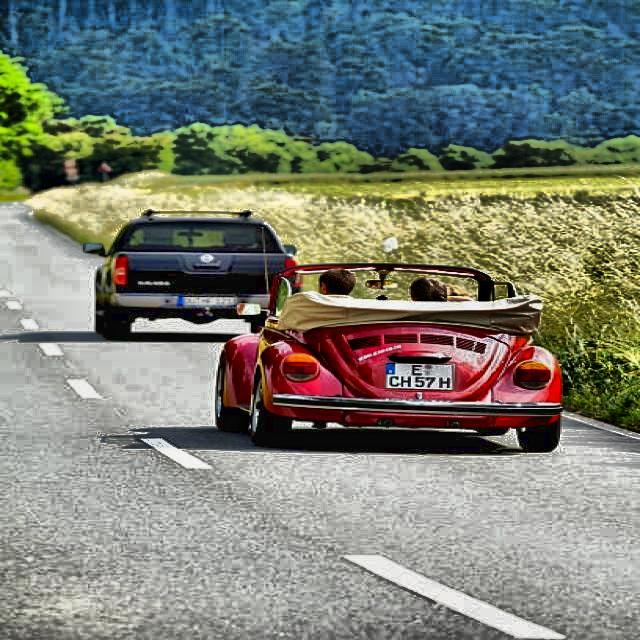carro: (212, 276, 566, 446), (97, 217, 304, 330)
